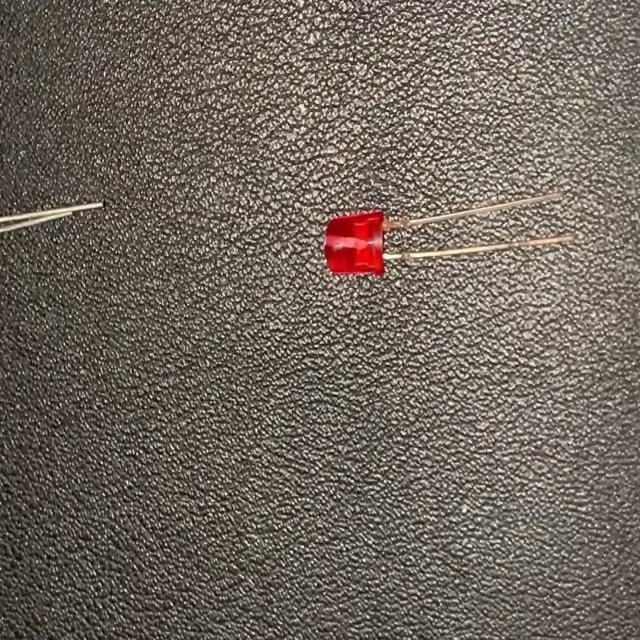LED: (322, 188, 580, 278)
rust: (380, 212, 410, 239)
